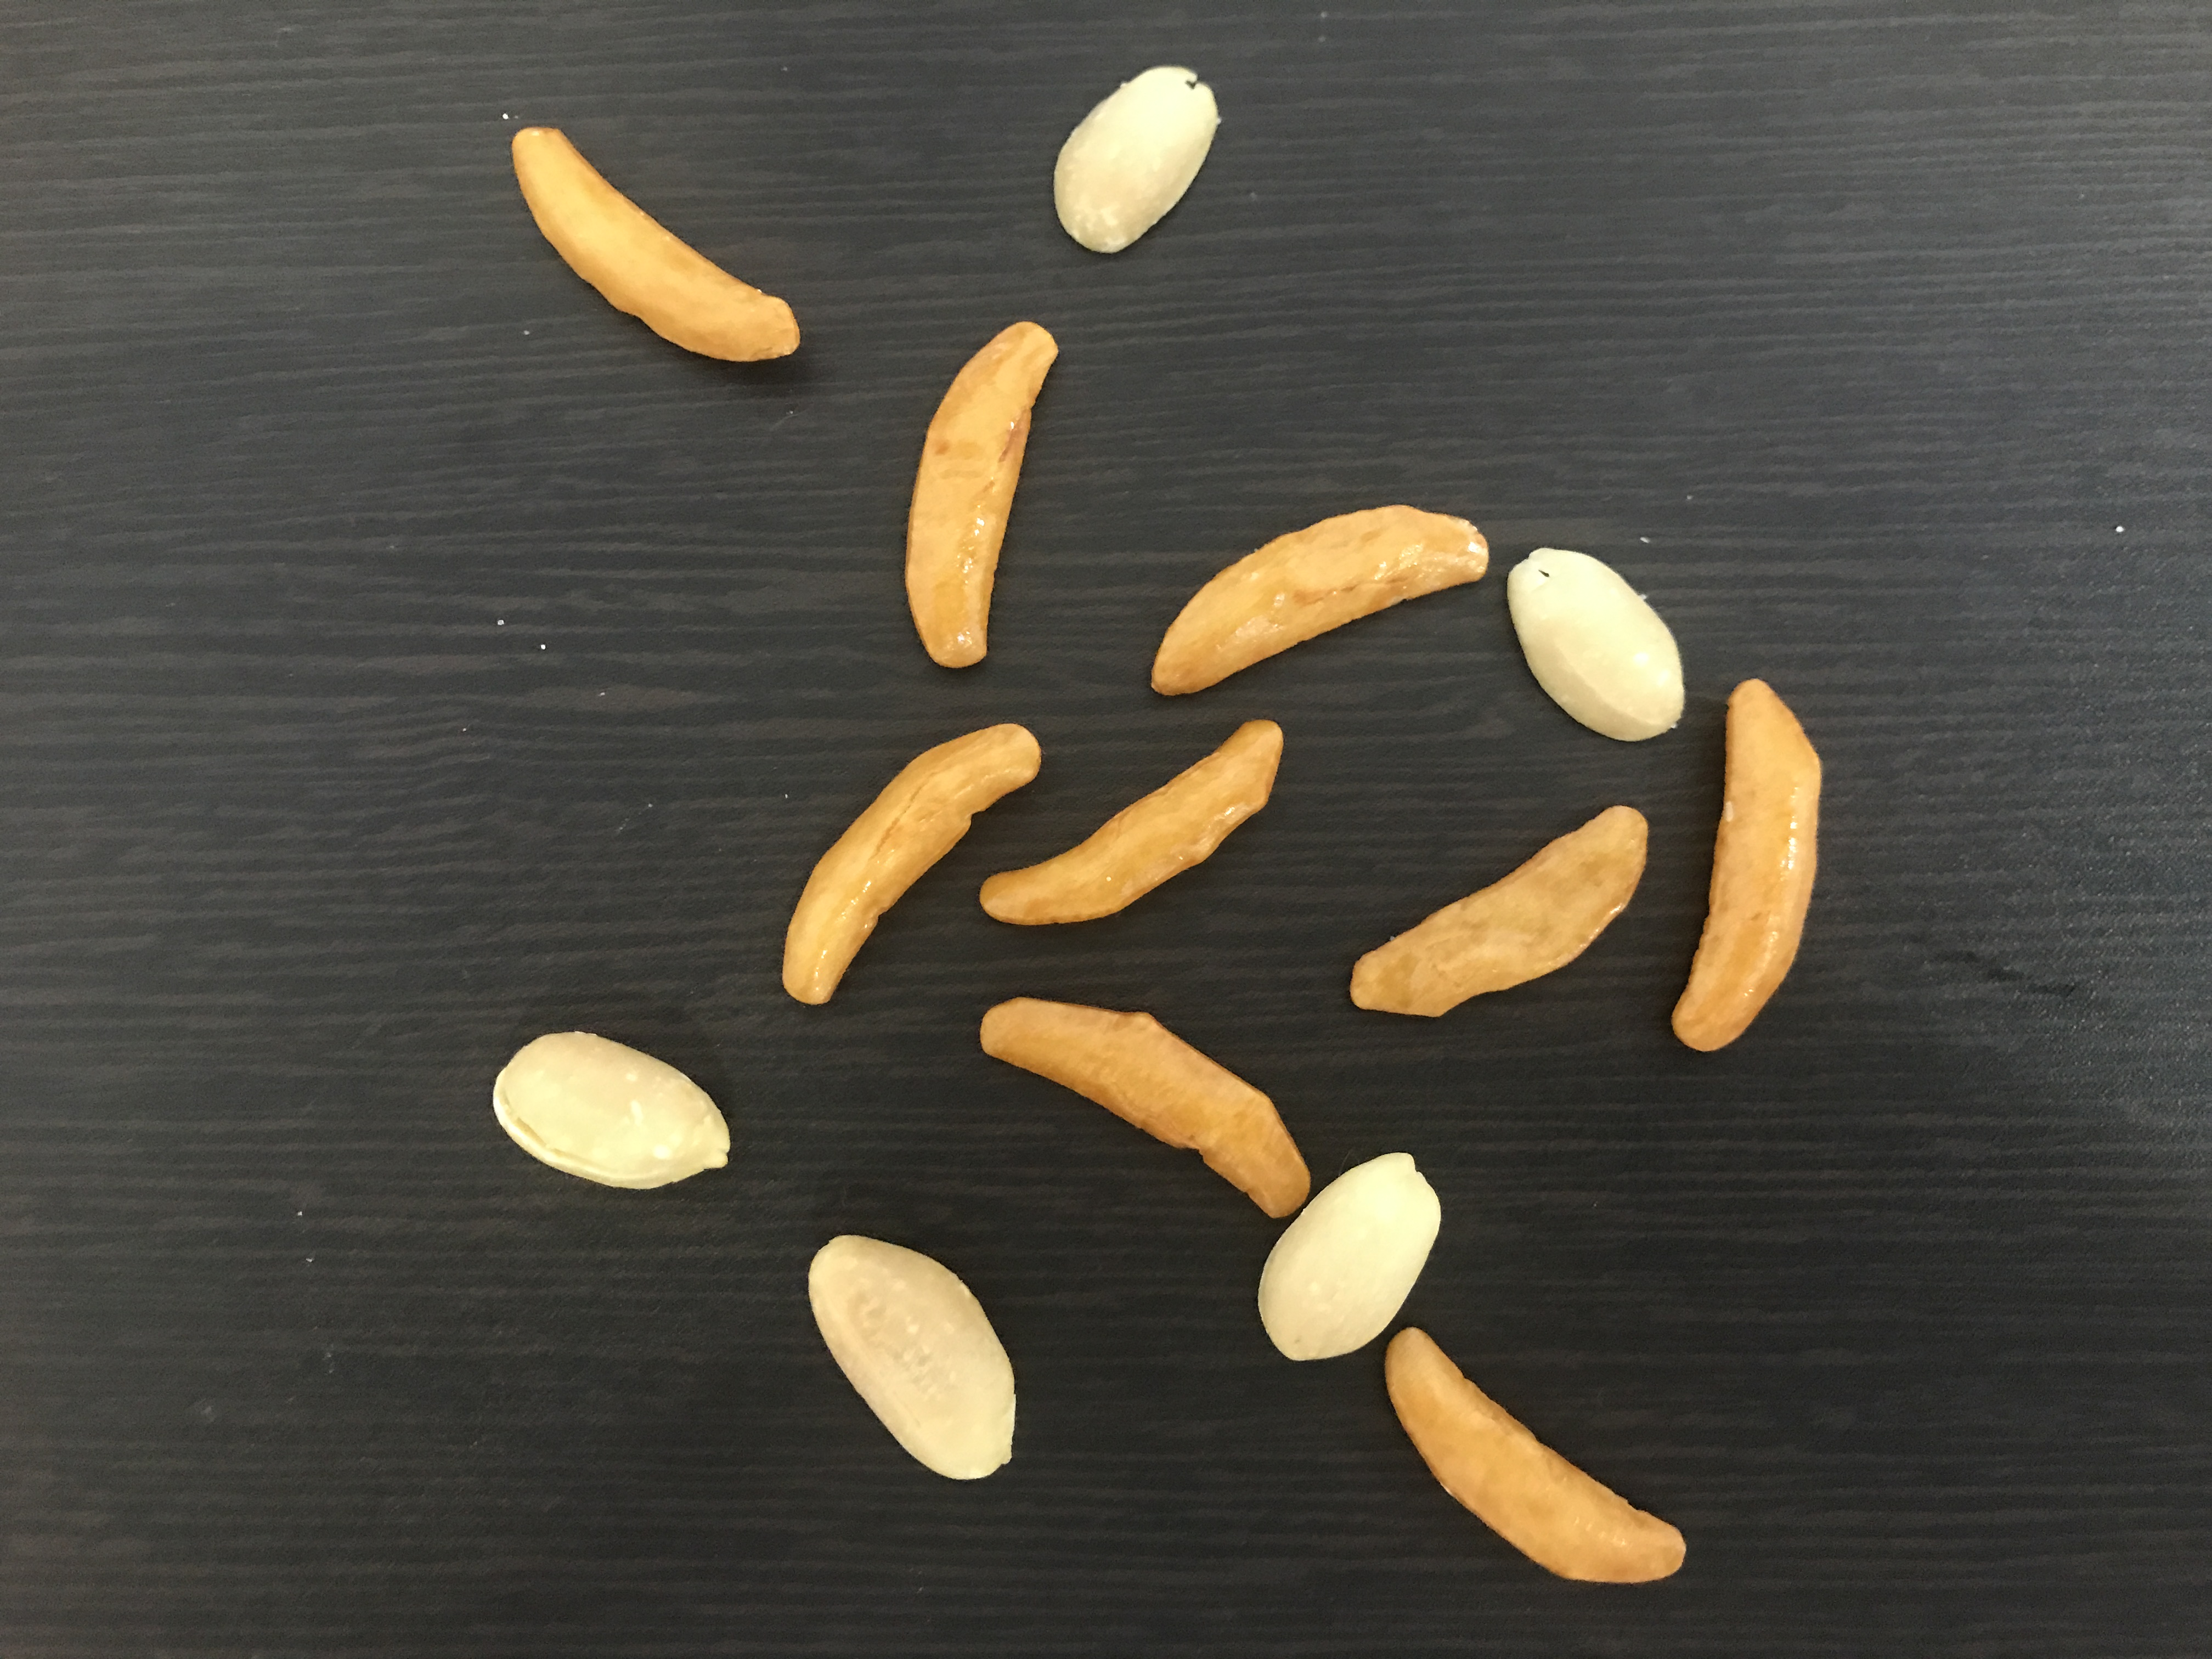peanut: (803, 1230, 1017, 1483), (484, 1025, 740, 1199), (1252, 1145, 1446, 1364), (1501, 542, 1691, 744), (1045, 59, 1226, 261)
